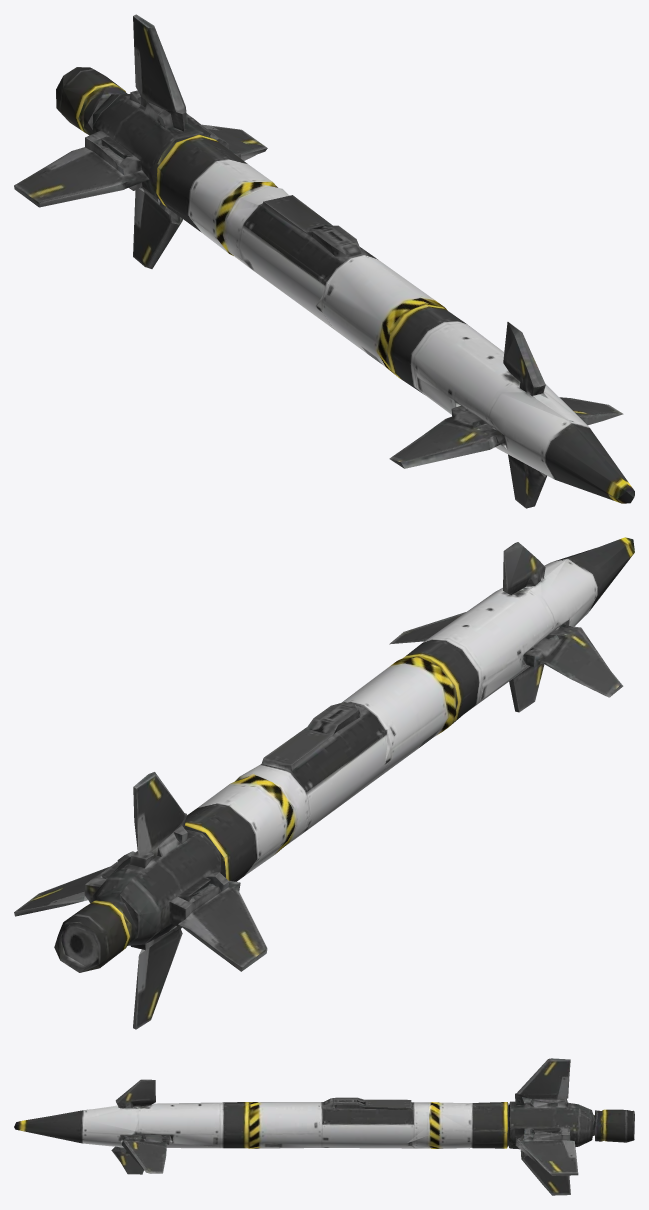
The model's file is rocket-r1.glb.
3 views of the same model, one above another, from view 1: azimuth 30°, elevation 25°; view 2: azimuth 150°, elevation 25°; view 3: azimuth 270°, elevation 25° (orthographic). The views are drawn at different scales.
Parts seen in each view (by area): view 1: rocket-r1; view 2: rocket-r1; view 3: rocket-r1.
Boxes of the visible parts, left/top/right/bottom form: rocket-r1: left=14, top=14, right=634, bottom=508; rocket-r1: left=14, top=537, right=634, bottom=1029; rocket-r1: left=14, top=1058, right=634, bottom=1195.
Bounding box in the file's own units: 1.67 × 1.7 × 7.
Materials: 1 (1 with a texture image).
